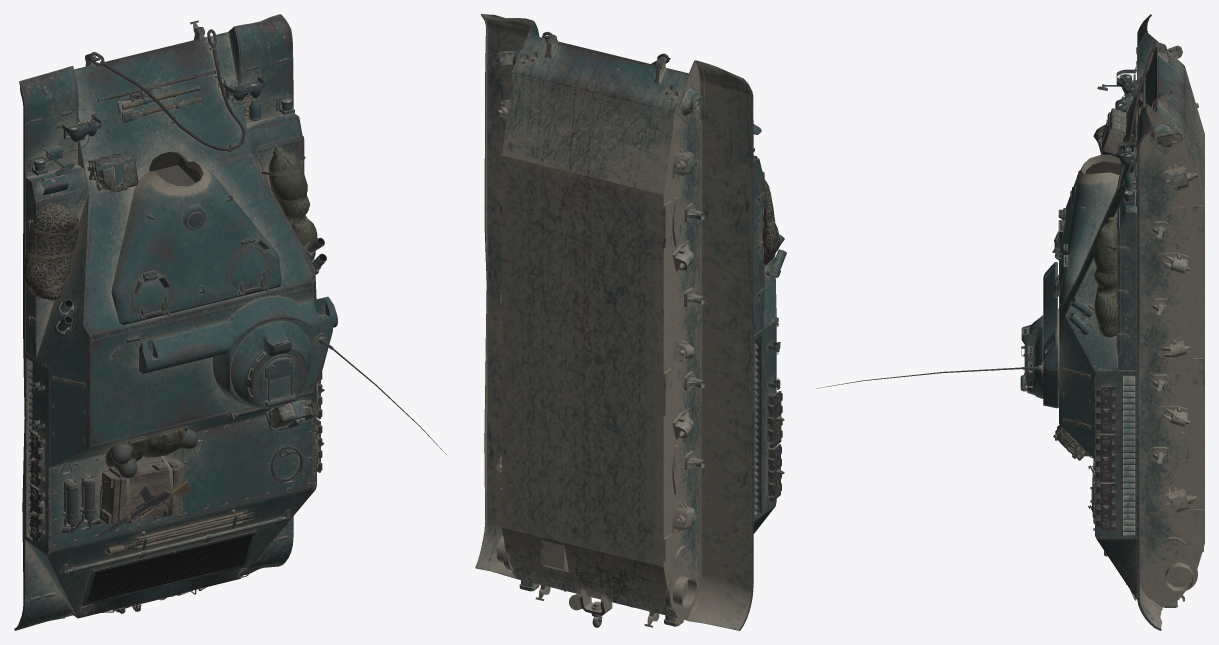
The model's file is Hull.glb.
3 views of the same model, side by side, from view 1: azimuth 30°, elevation 25°; view 2: azimuth 150°, elevation 25°; view 3: azimuth 270°, elevation 25° (orthographic). The views are drawn at different scales.
Parts seen in each view (by area): view 1: set_0_group_0, set_0_group_1; view 2: set_0_group_0, set_0_group_1; view 3: set_0_group_0, set_0_group_1.
Boxes of the visible parts, x1,y1,x2,y2 form: set_0_group_0: (14,14,446,630); set_0_group_1: (23,29,317,606); set_0_group_0: (475,14,786,630); set_0_group_1: (542,31,780,610); set_0_group_0: (816,14,1204,630); set_0_group_1: (1062,40,1158,584).
Size of the model in its own units: 3.42 by 6.43 by 4.32.
2 materials, 2 textured.
